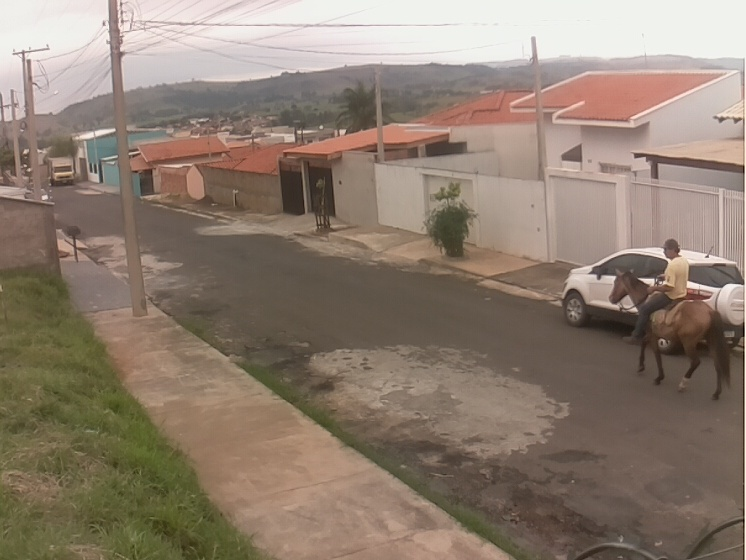person: (623, 238, 690, 347)
